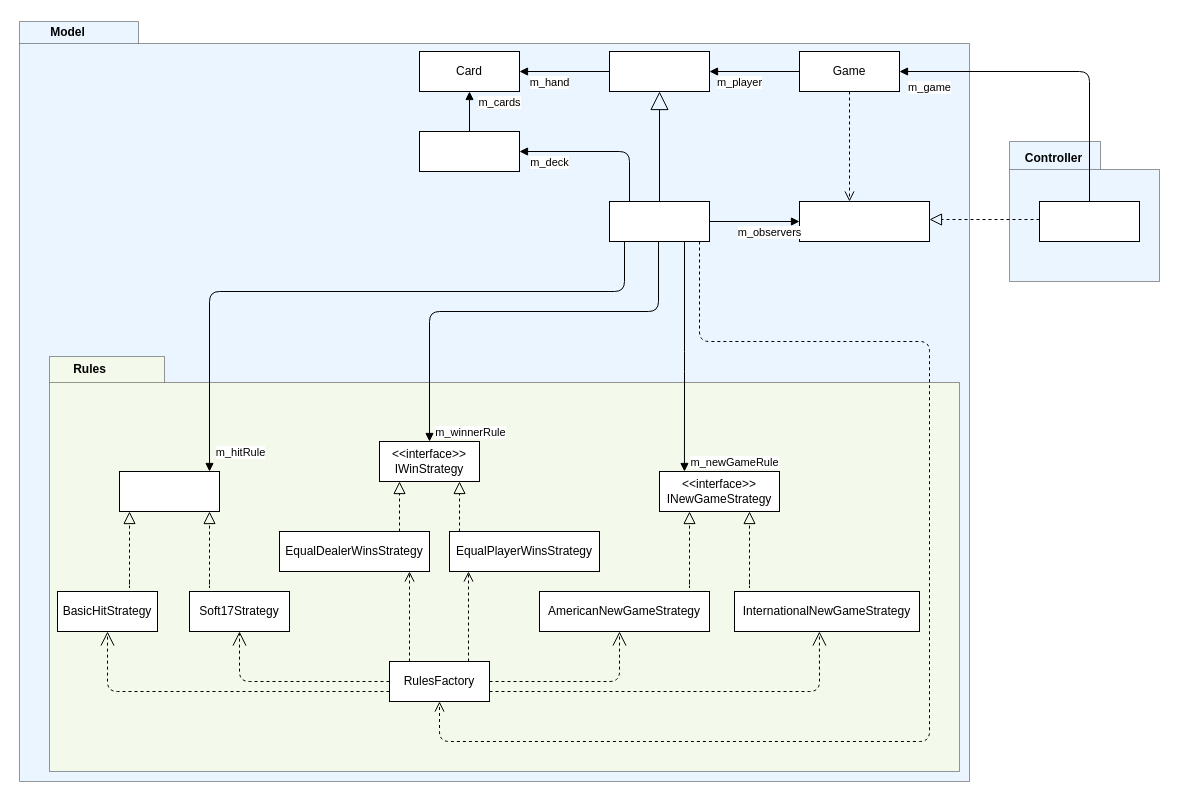
Some shapes in this 1177 by 799 pixel diagram are drawn without their labels. Each missing label, with the box of its shape:
<<interface>> BlackJackObserver: (798, 200, 930, 242)
<<interface>> IHitStrategy: (118, 470, 220, 512)
Dealer: (608, 200, 710, 242)
Deck: (418, 130, 520, 172)
Player: (608, 50, 710, 92)
PlayGame: (1038, 200, 1140, 242)
